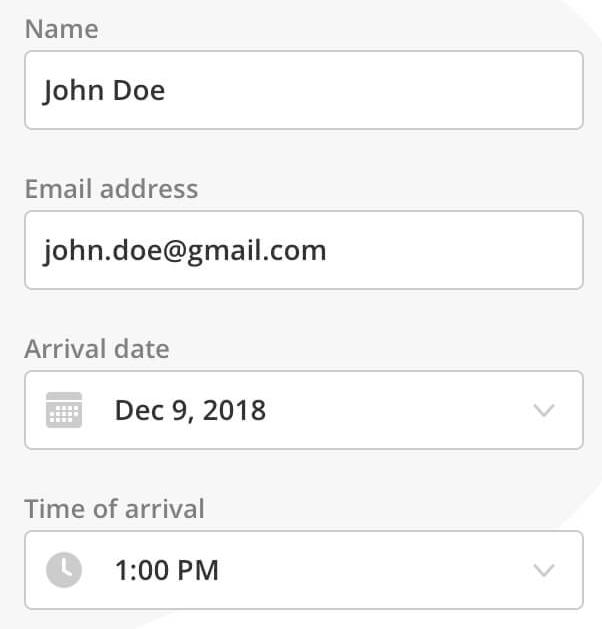field: (21, 46, 584, 132), (21, 370, 584, 452), (24, 207, 586, 289), (24, 529, 584, 608)
field_with_label: (17, 336, 589, 457), (17, 15, 587, 132), (23, 495, 585, 613), (20, 179, 589, 292)
